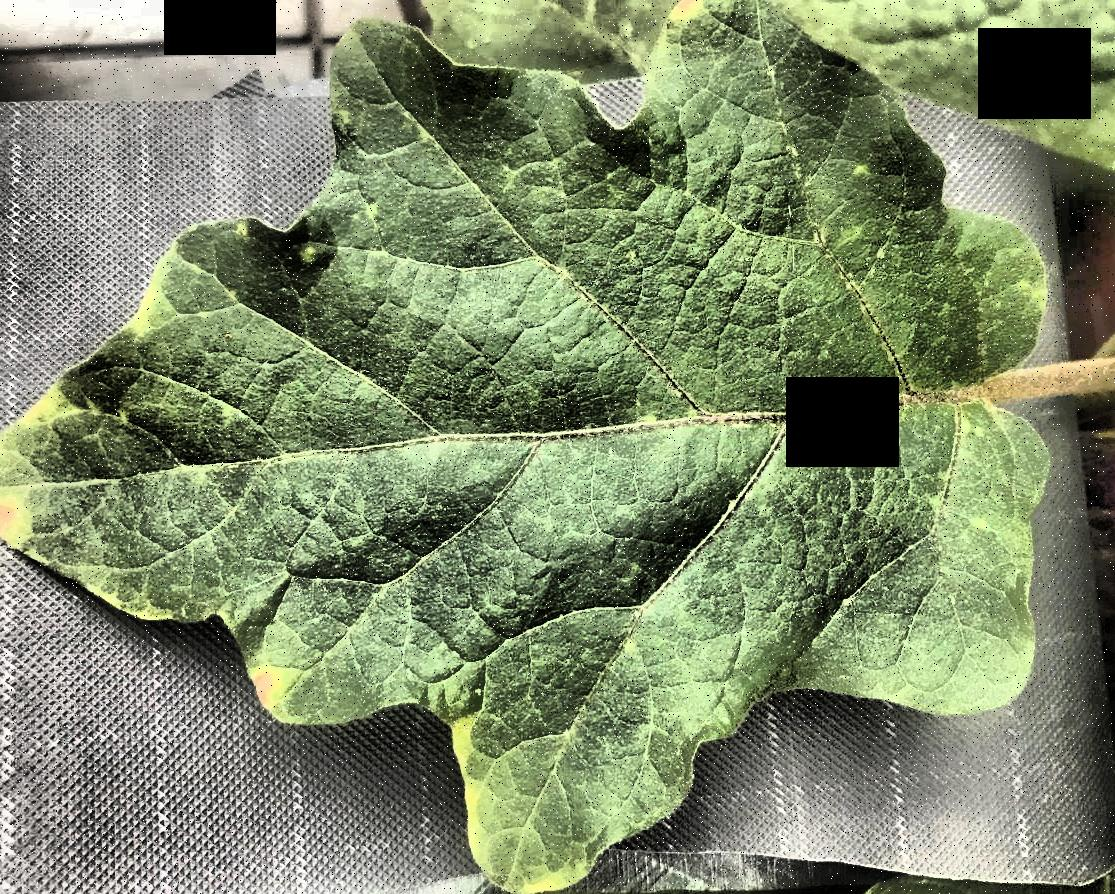Non-critical Stress: (1, 0, 1115, 894)
